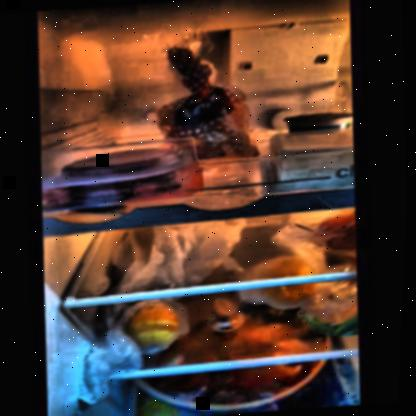carrot: (321, 210, 359, 252)
cheese: (265, 130, 357, 186)
lemon: (265, 257, 323, 304), (128, 304, 187, 349)
salami: (67, 146, 165, 178)
yoghurt: (287, 110, 353, 132)
